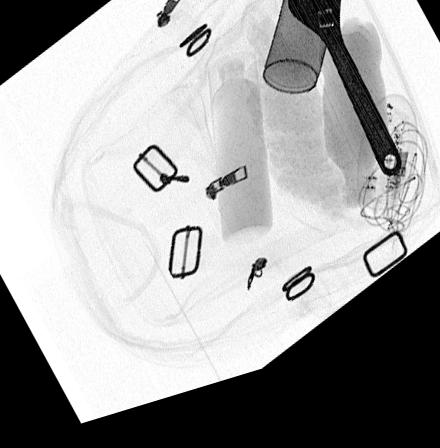Wrench: (287, 0, 403, 201)
